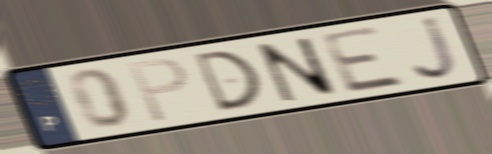0: (68, 66, 135, 133)
D: (189, 47, 266, 115)
E: (317, 23, 410, 96)
J: (410, 13, 463, 83)
N: (252, 35, 343, 105)
P: (125, 55, 191, 126)
